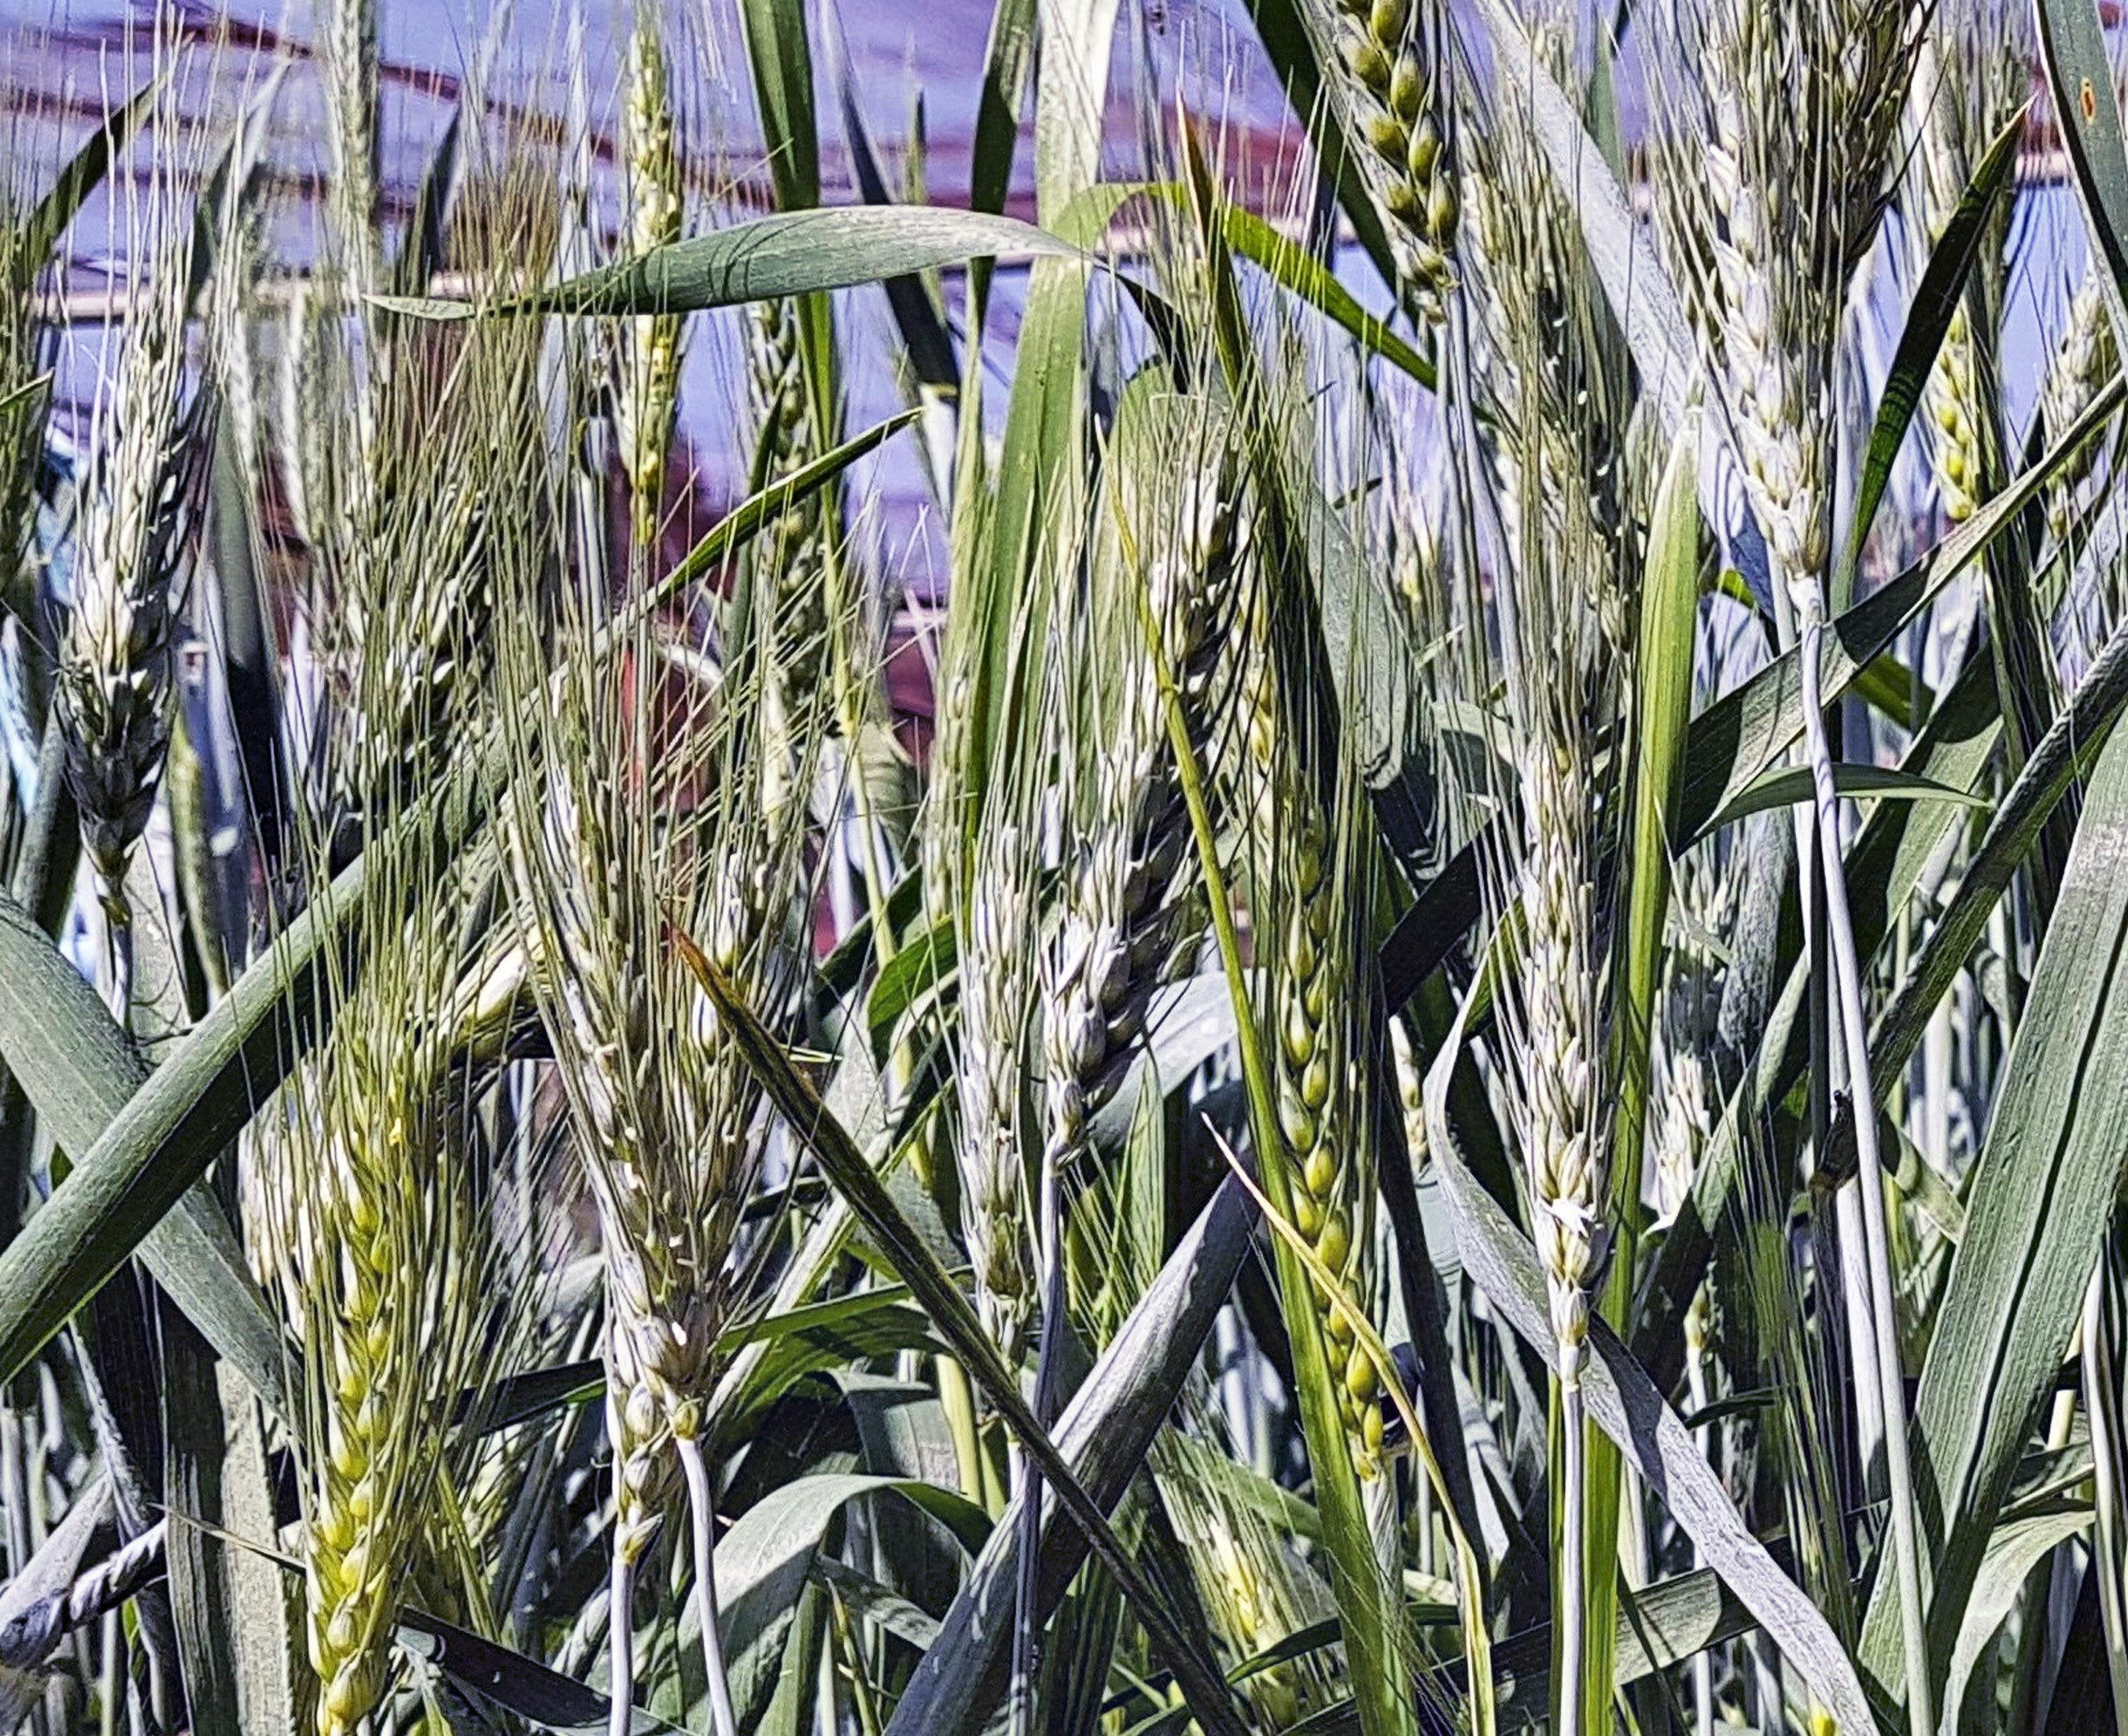Healthy Wheat: (267, 1029, 460, 1706), (1479, 727, 1635, 1296)
